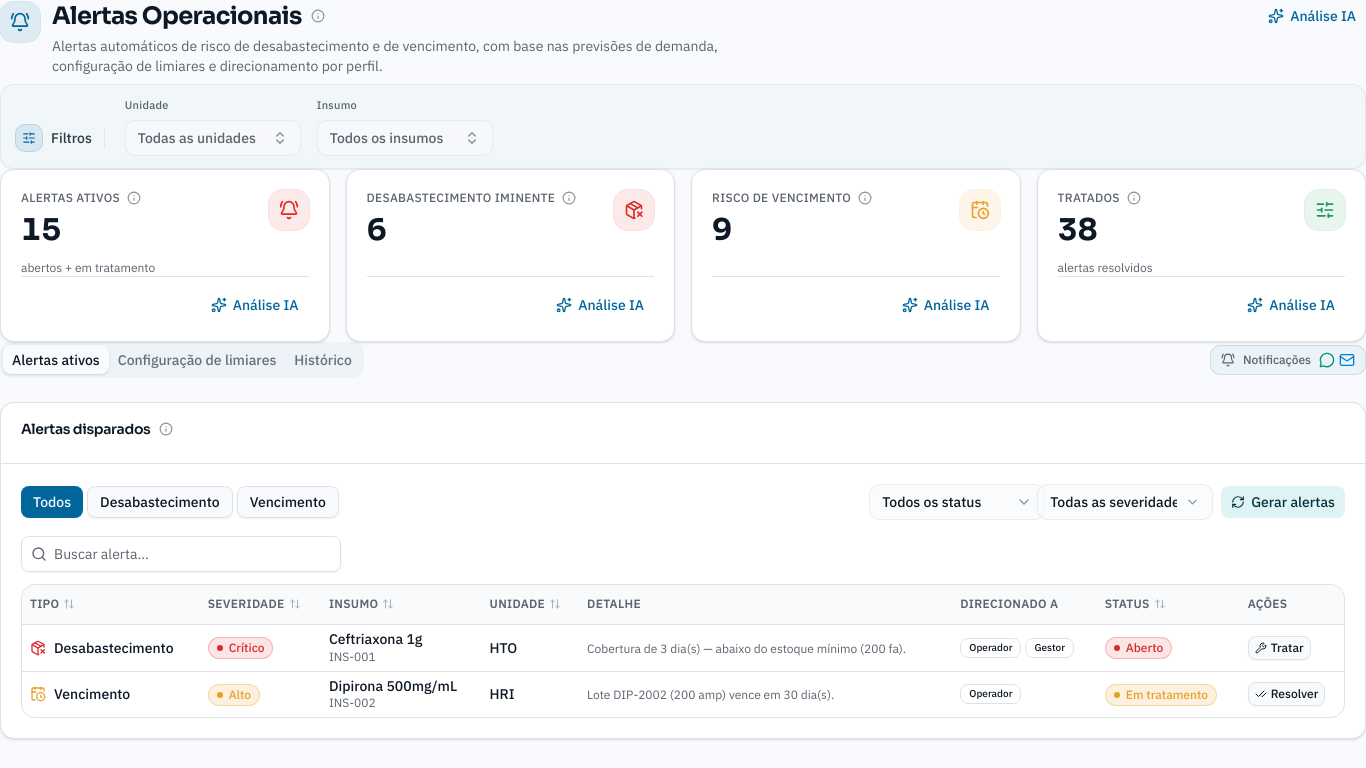
it: AlertasPage › se a ação falha, mostra o erro em toast e mantém o modal aberto para nova tentativa
Step 1. Click the button "Tratar" → (1279, 648), box left=1248, top=636, right=1311, bottom=660
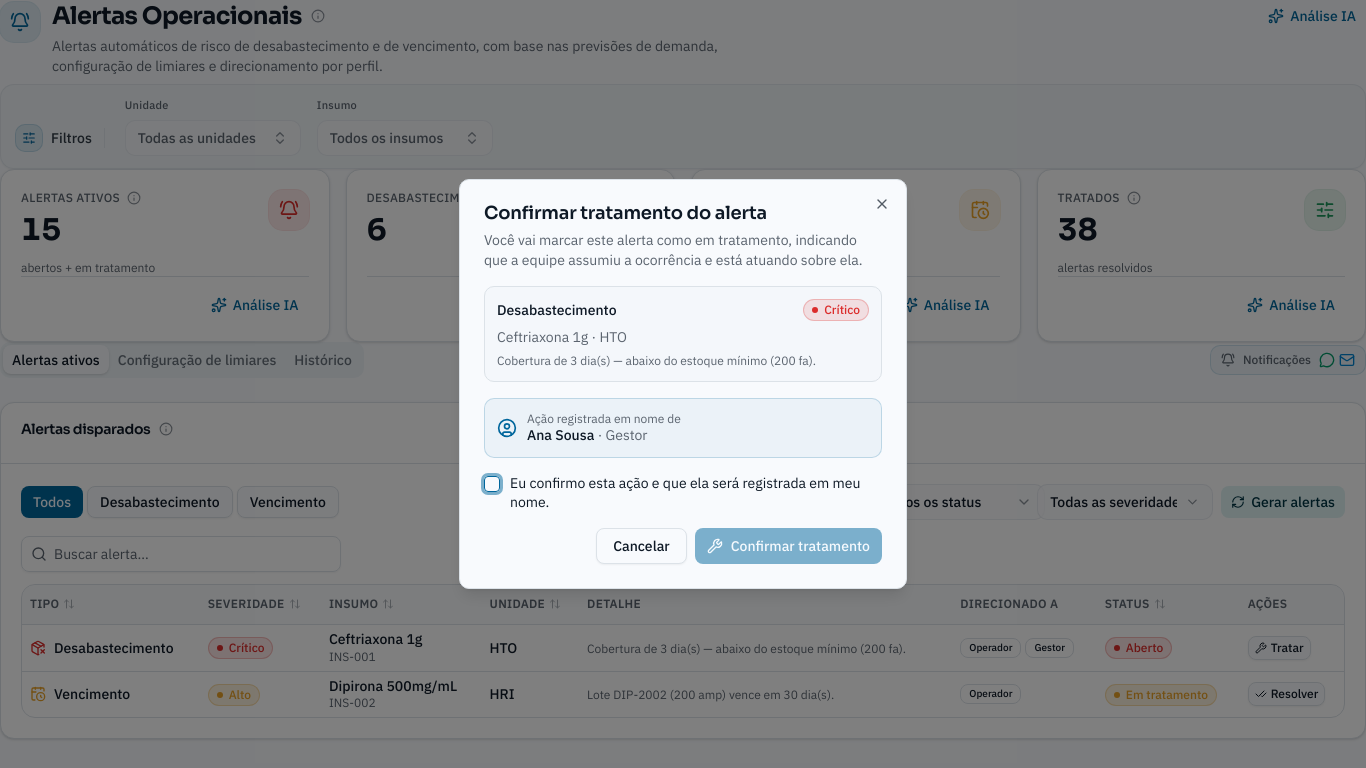
Step 2. Click the checkbox → (492, 484), box left=484, top=476, right=500, bottom=492
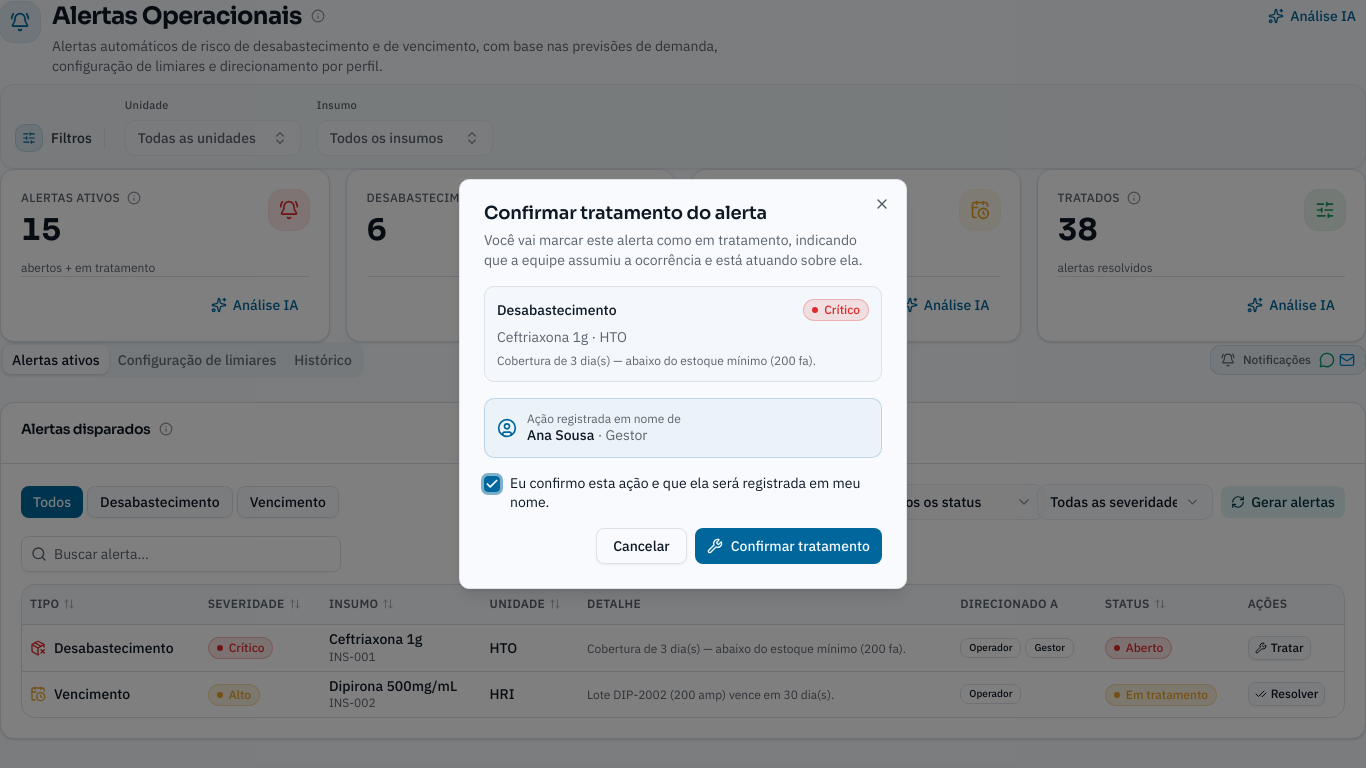
Step 3. Click the button "Confirmar tratamento" → (788, 546), box left=695, top=528, right=882, bottom=564
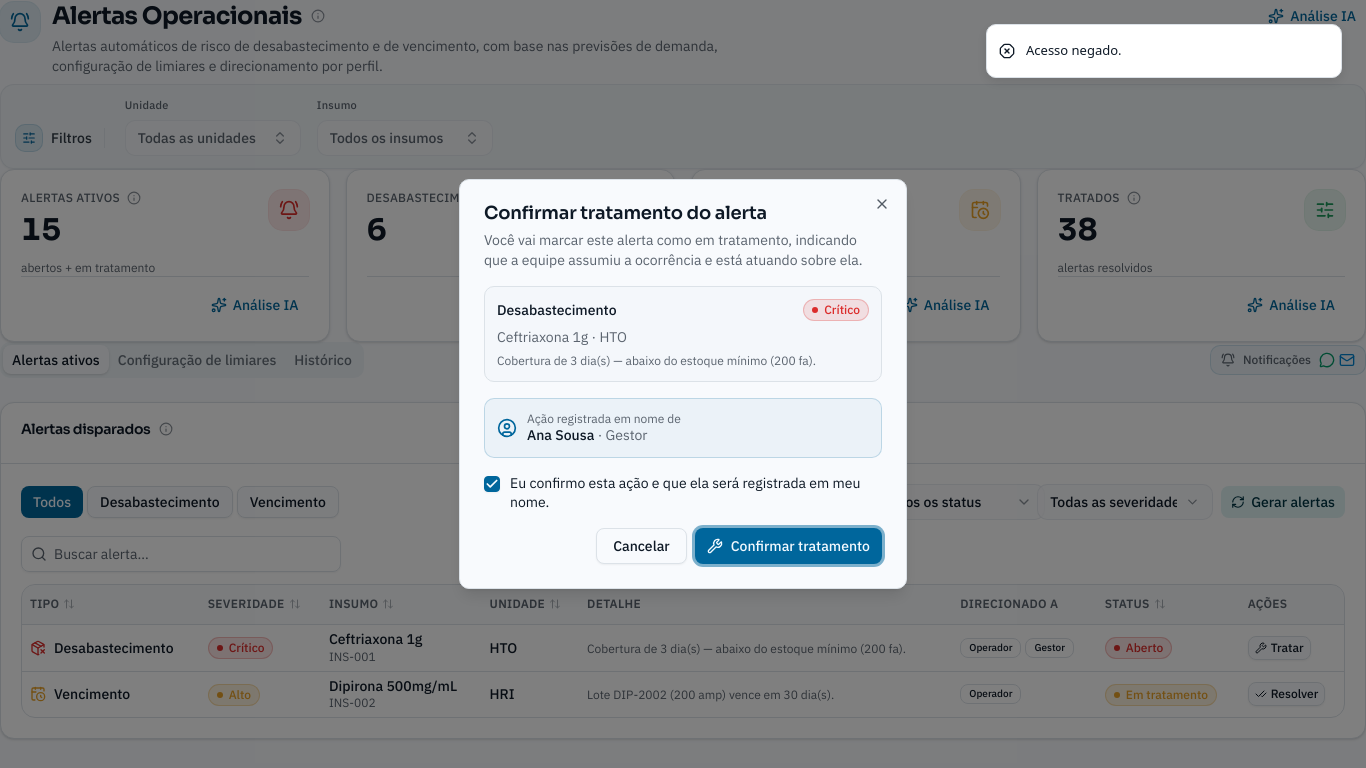
Expected: the dialog is shown, left=459, top=179, right=907, bottom=589
Expected: the button "Confirmar tratamento" is enabled, left=695, top=528, right=882, bottom=564
Expected: the text "Acesso negado." is shown, left=1026, top=41, right=1122, bottom=60
